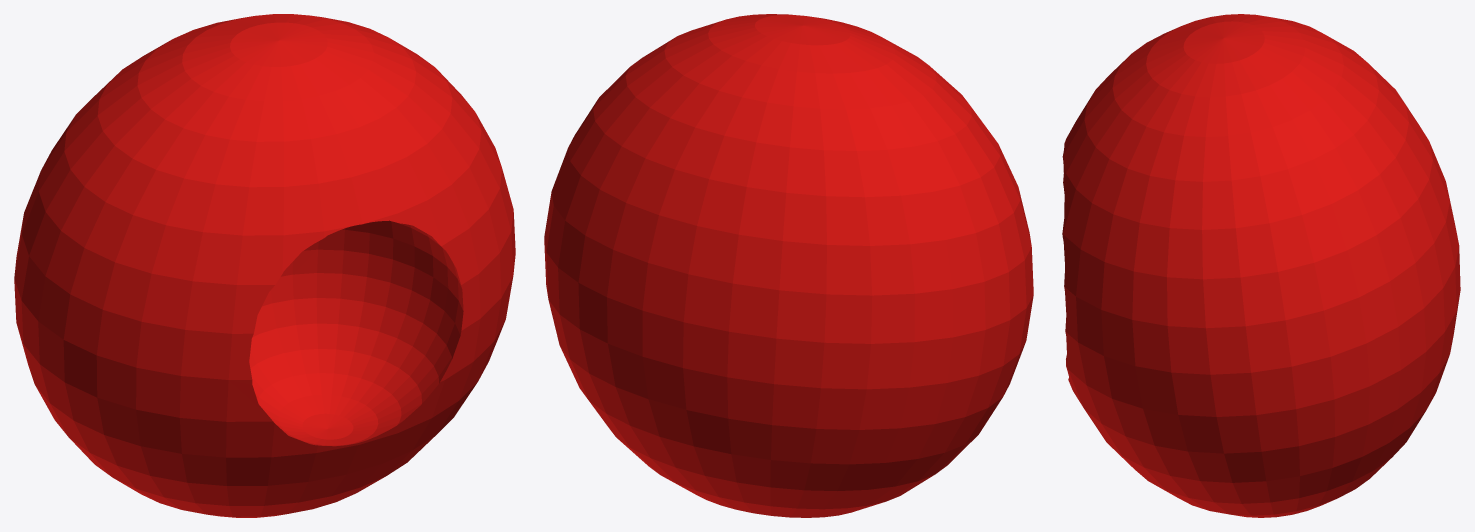
The model's file is BossEye.obj.
3 renders of one model, left to right at view 1: azimuth 30°, elevation 25°; view 2: azimuth 150°, elevation 25°; view 3: azimuth 270°, elevation 25°, orthographic. The views are drawn at different scales.
Visible parts, largest first — view 1: Sphere.002; view 2: Sphere.002; view 3: Sphere.002.
Boxes of the visible parts, x1,y1,x2,y2 form: Sphere.002: [14, 14, 515, 517]; Sphere.002: [544, 14, 1033, 517]; Sphere.002: [1062, 14, 1460, 517].
Bounding box in the file's own units: 2.8 × 2.78 × 2.21.
Materials: 1 (1 with a texture image).
